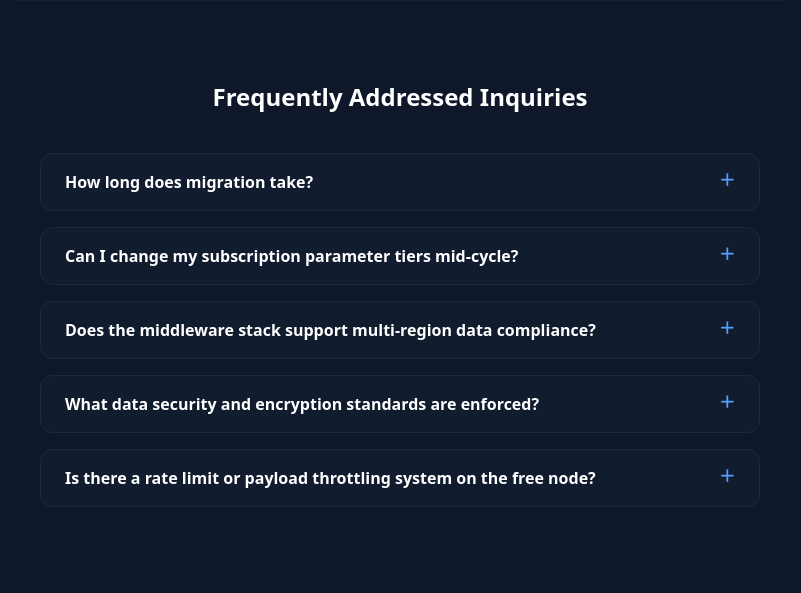
Scenario: FaqSection Component Lifecycle › should smoothly toggle open and display hidden text when clicked by a user
Target the first interactive accordion button trigger
Click the button "How long does migration take? ＋".
click(189, 182)  # box [41,154,759,210]
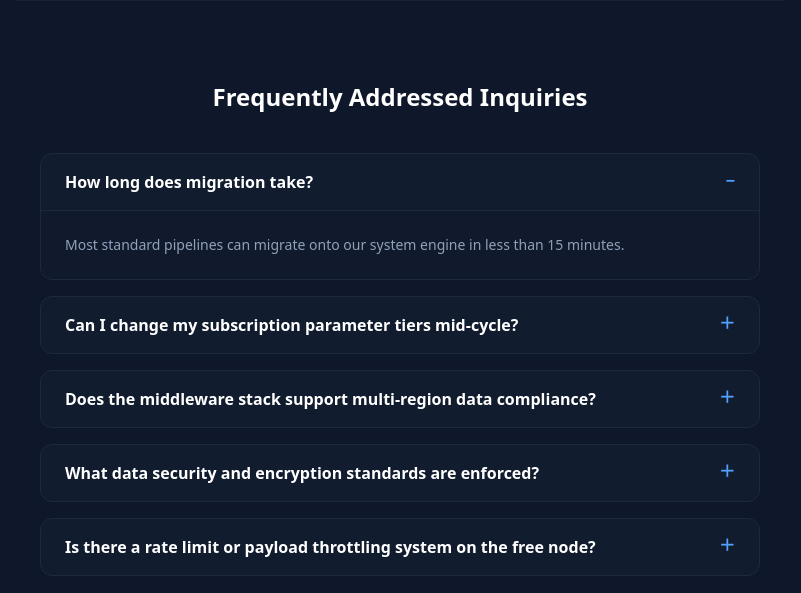
Expected: the text "Most standard pipelines can migrate onto our system engine" is shown, [65,235,624,254]
